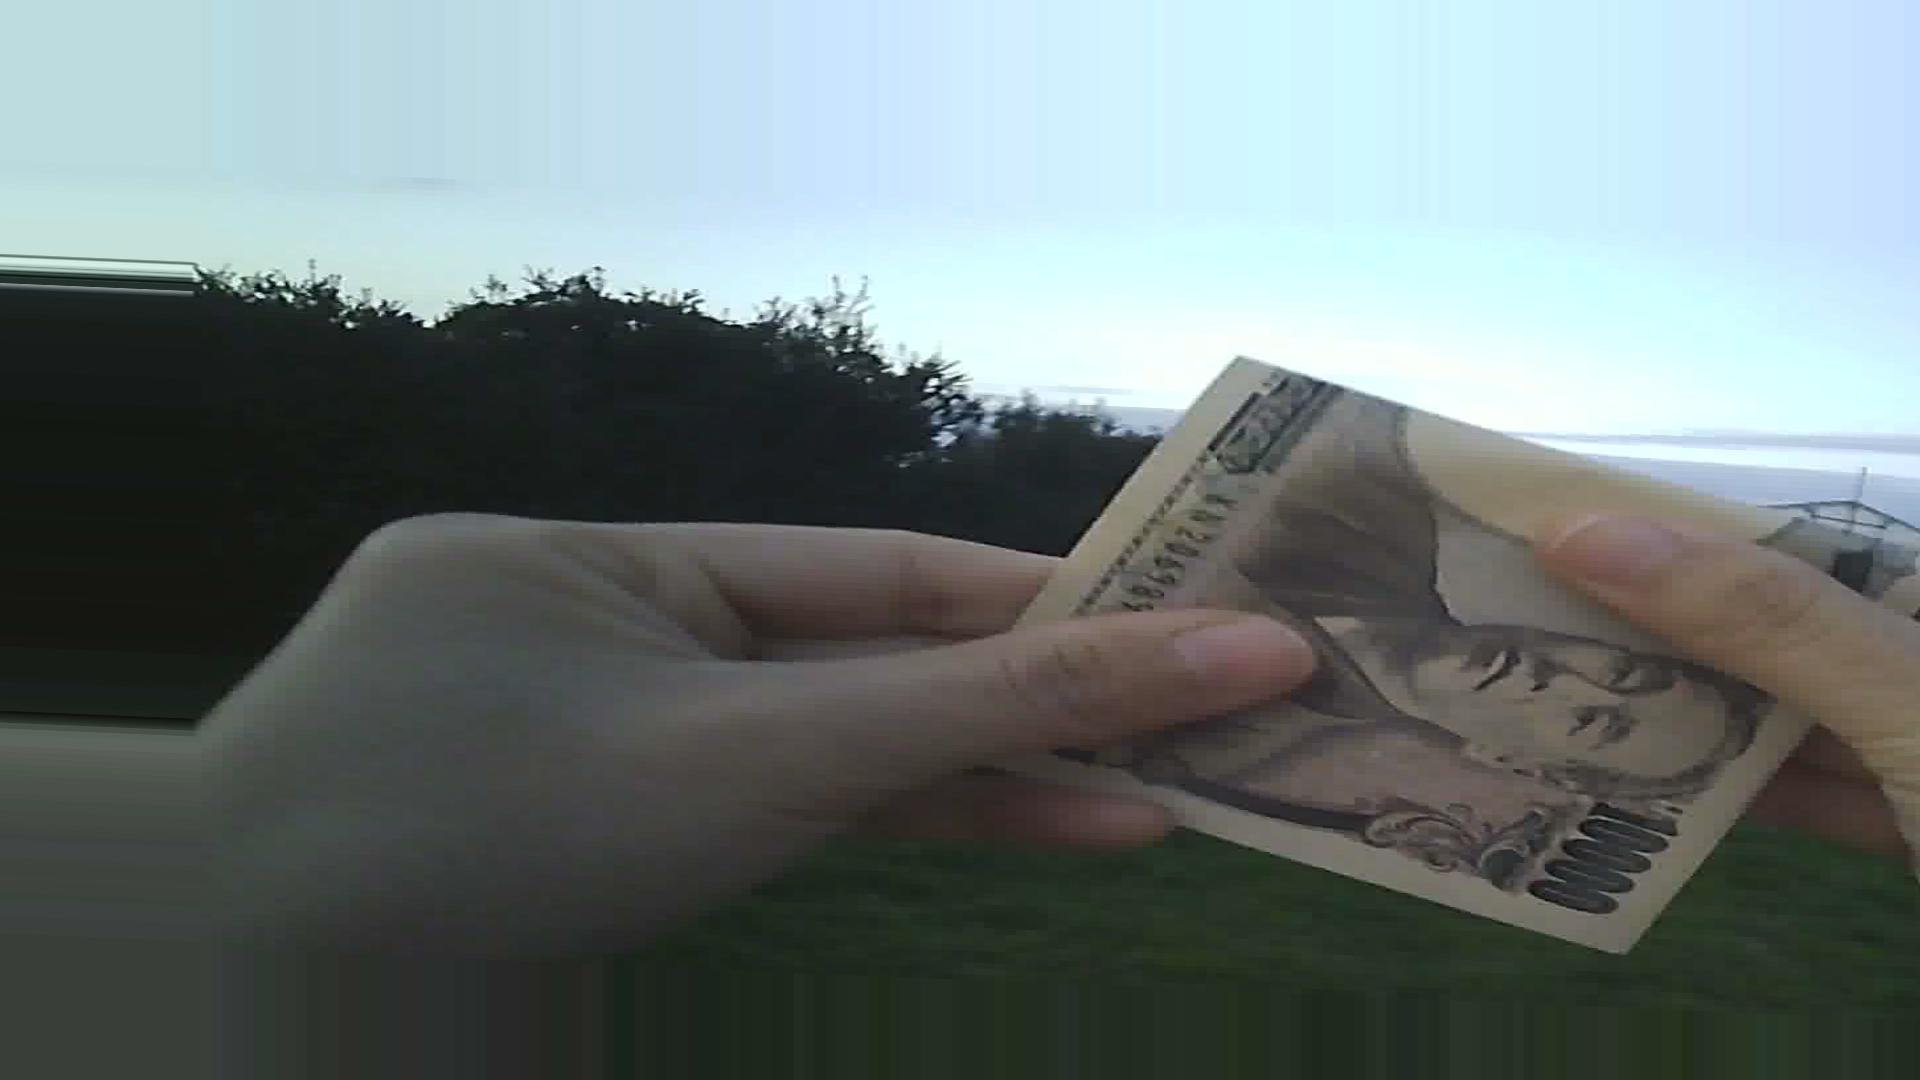10,000 Yen: (945, 339, 1880, 939)
